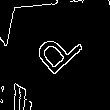P_SW: (23, 21, 84, 82)
